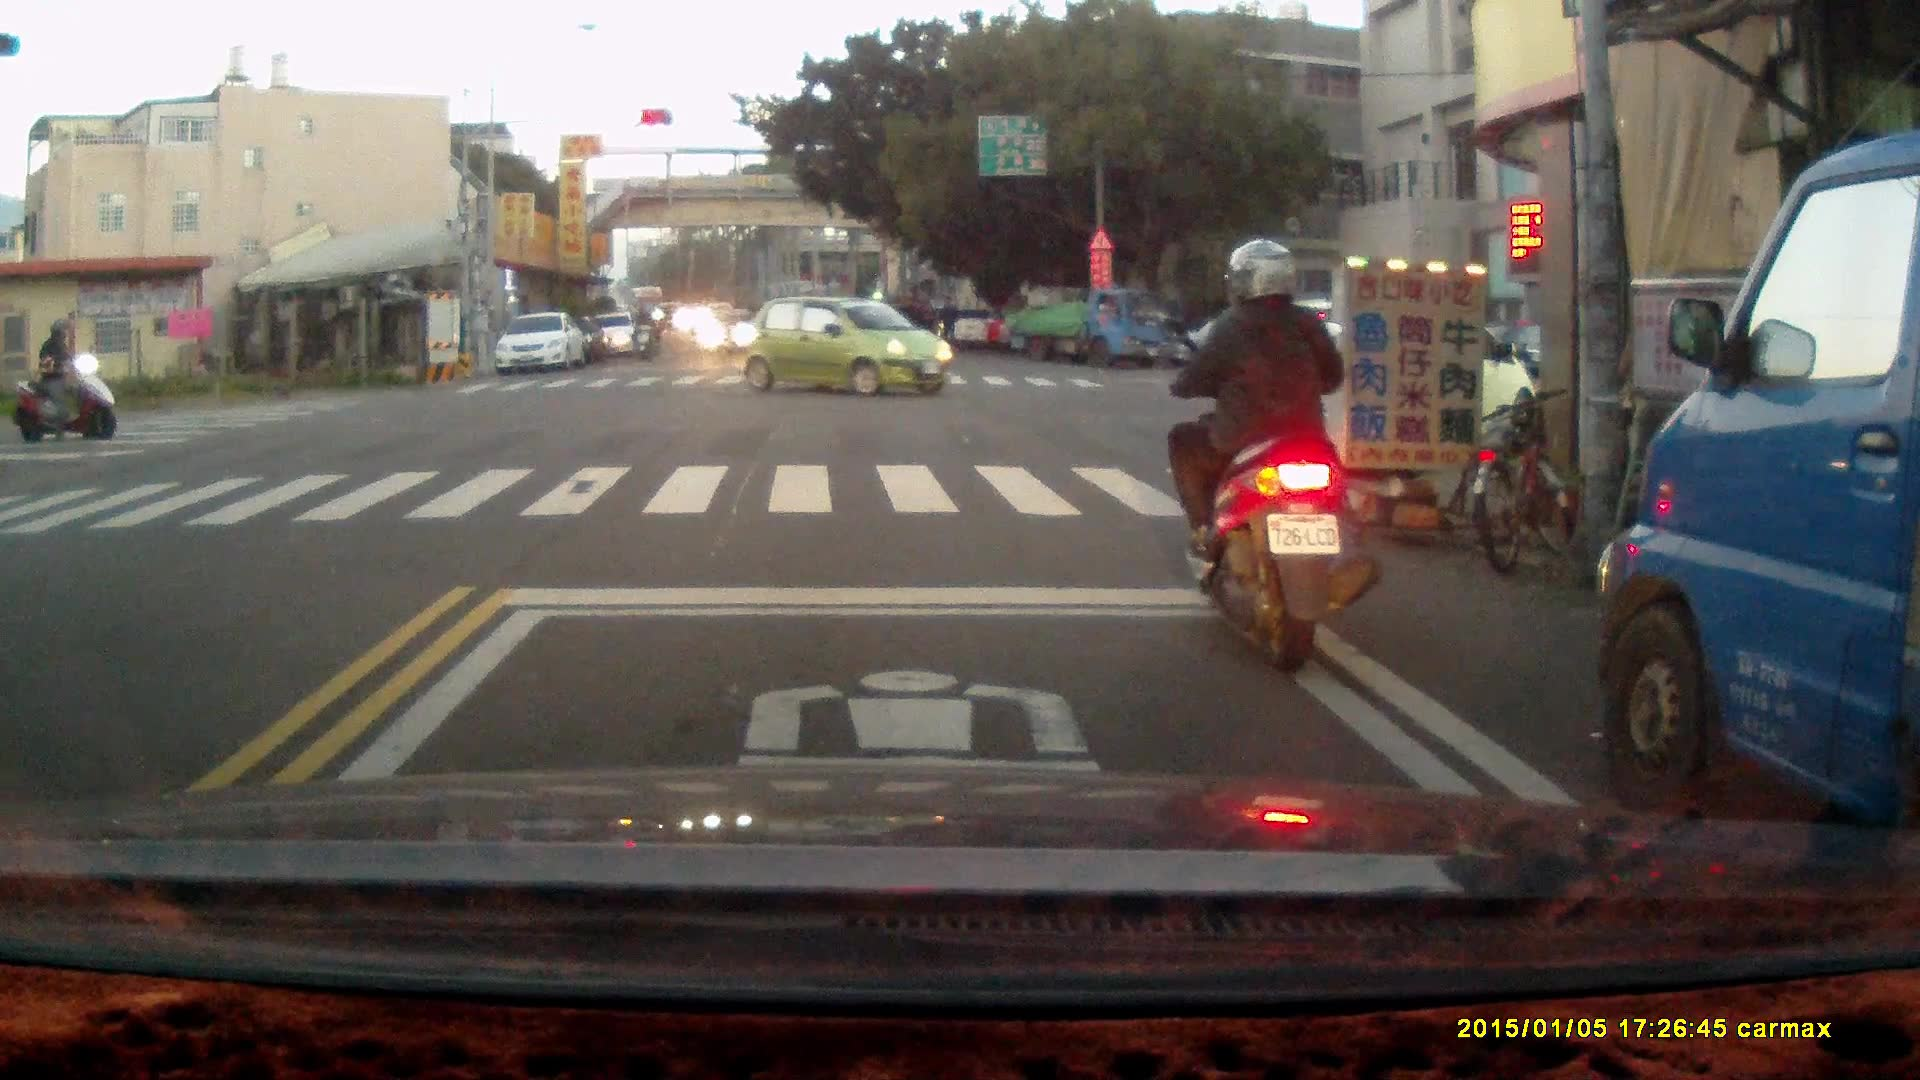rider: (1157, 232, 1395, 679), (10, 318, 119, 440), (631, 306, 658, 363)
vehicle: (1600, 132, 1920, 916), (1224, 295, 1531, 462), (744, 293, 951, 400), (1002, 284, 1178, 367), (494, 313, 587, 377), (592, 311, 642, 360)
